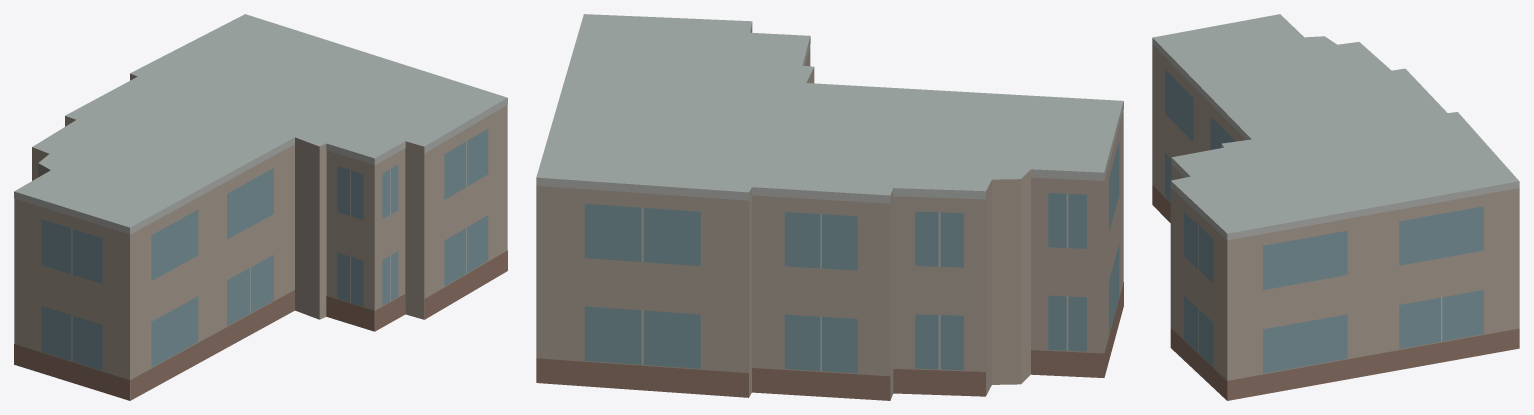
Rendered from survey-upis-32646315.glb.
The picture shows the model from 3 angles, left to right: view 1: azimuth 30°, elevation 25°; view 2: azimuth 150°, elevation 25°; view 3: azimuth 270°, elevation 25°; orthographic projection. The views are drawn at different scales.
Visible parts, largest first — view 1: survey-upis-32646315.tmp; view 2: survey-upis-32646315.tmp; view 3: survey-upis-32646315.tmp.
Boxes of the visible parts, x1,y1,x2,y2 form: survey-upis-32646315.tmp: [14, 14, 507, 400]; survey-upis-32646315.tmp: [536, 14, 1123, 400]; survey-upis-32646315.tmp: [1152, 14, 1519, 400].
Bounding box in the file's own units: 17.2 × 6.1 × 12.15.
